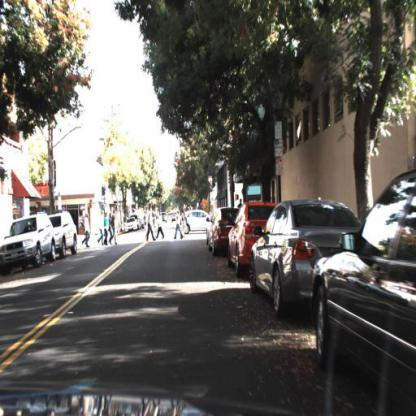car: (313, 168, 416, 414), (250, 196, 322, 325), (2, 210, 57, 279), (227, 202, 261, 276), (207, 205, 236, 258), (54, 210, 79, 259)
pedestrian: (83, 208, 93, 251), (146, 207, 157, 243), (182, 202, 190, 239), (110, 210, 118, 246), (175, 208, 183, 243), (103, 210, 109, 246), (99, 214, 105, 245), (159, 210, 164, 246), (182, 204, 187, 240), (108, 212, 113, 246)
trafficLight-Red: (207, 176, 213, 194), (101, 184, 107, 197)
